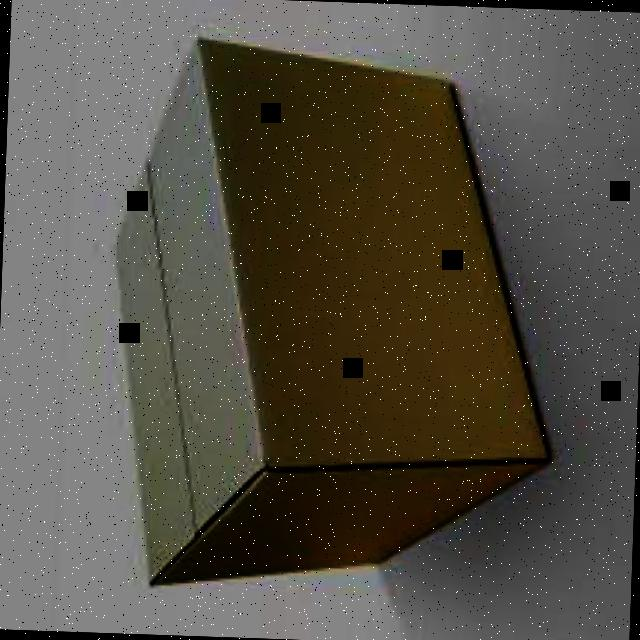cardboard_box: (101, 26, 564, 602)
